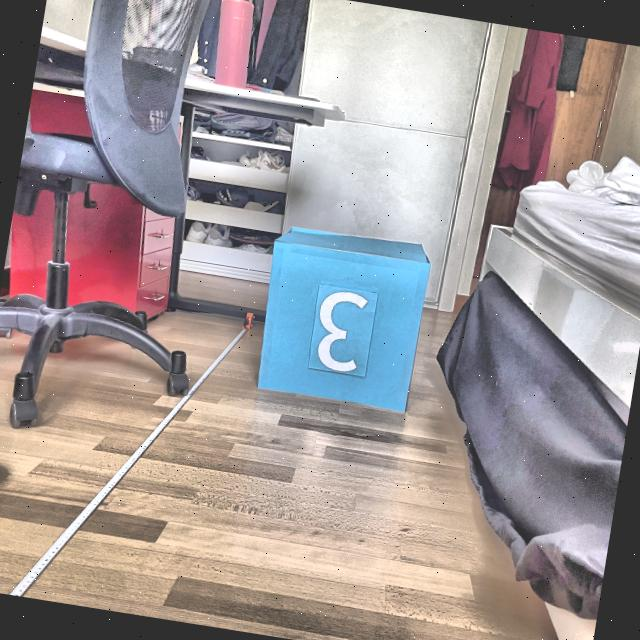blue box: (248, 218, 437, 416)
three: (311, 287, 374, 376)
